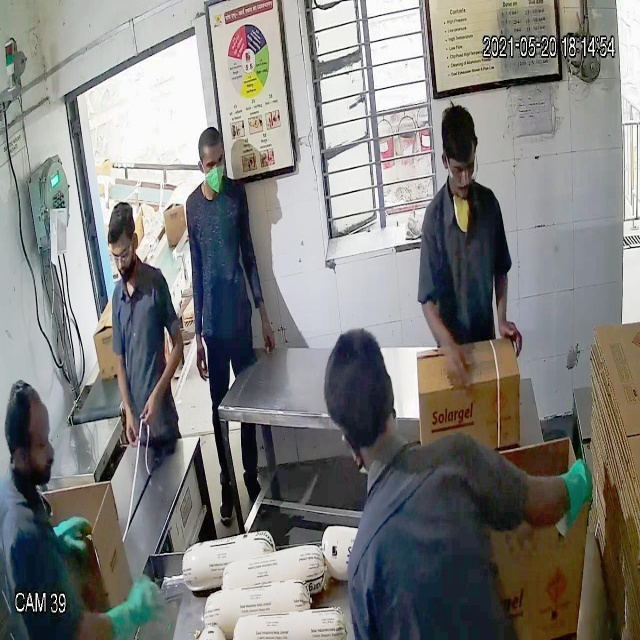Gafas: (433, 141, 484, 194), (105, 239, 142, 272)
